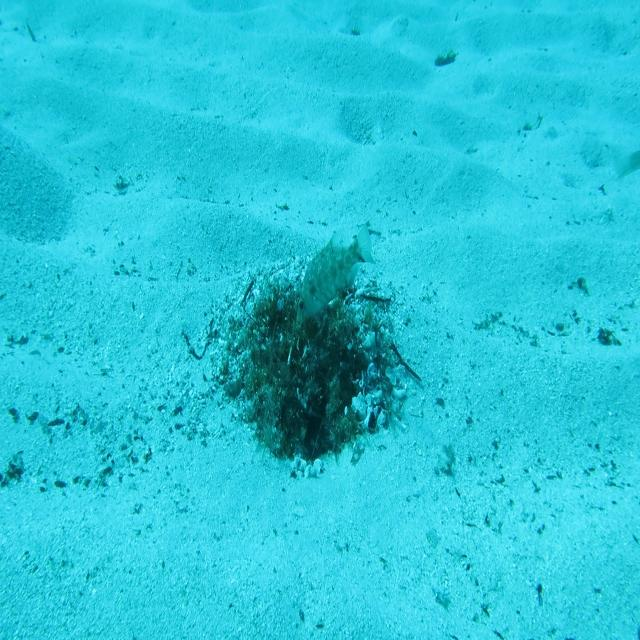INSF: (295, 220, 377, 330)
core_nest: (280, 305, 332, 340)
female: (607, 141, 640, 187)
nest: (203, 254, 412, 484)
vegetation: (433, 48, 459, 68)
